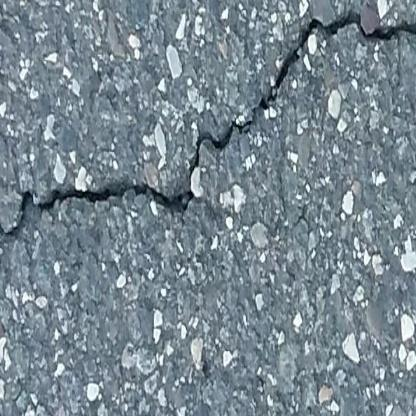Cracks: (0, 8, 416, 244)
